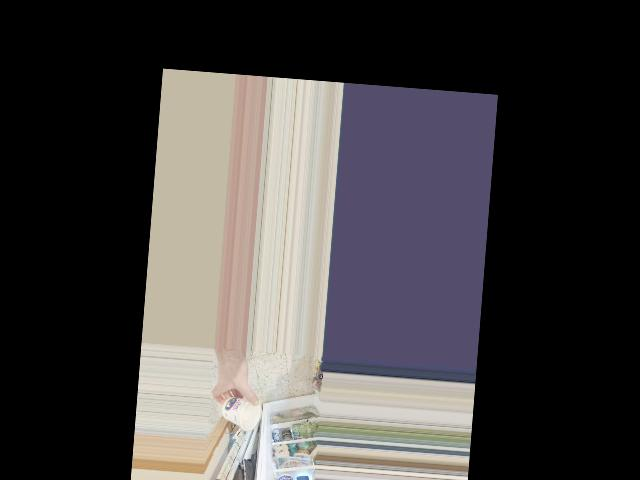cotage: (220, 392, 255, 434)
